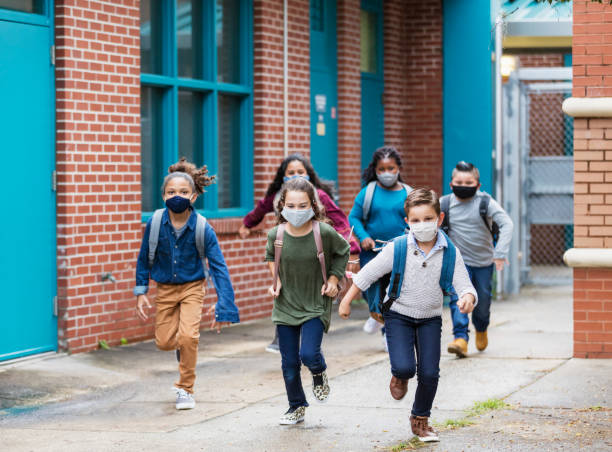with mask: (498, 265, 561, 338), (151, 158, 206, 222), (361, 136, 410, 191), (401, 194, 446, 249), (279, 179, 323, 235), (446, 158, 488, 208)
